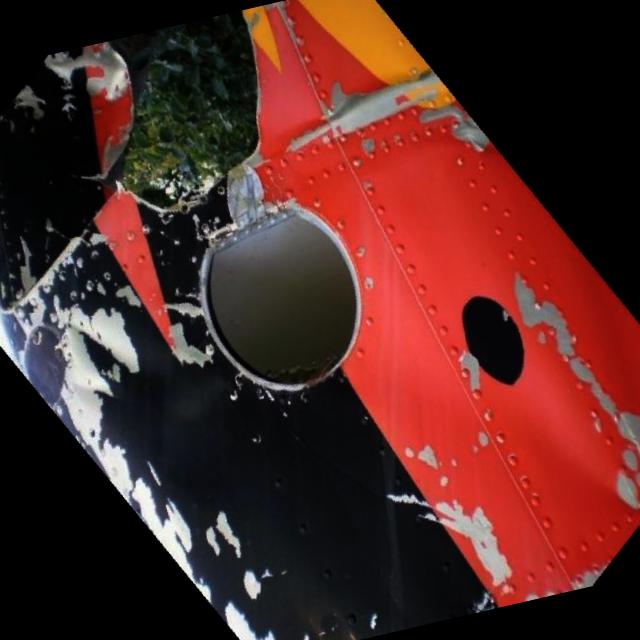dent: (514, 349, 640, 529), (147, 364, 256, 504), (122, 342, 178, 400)
